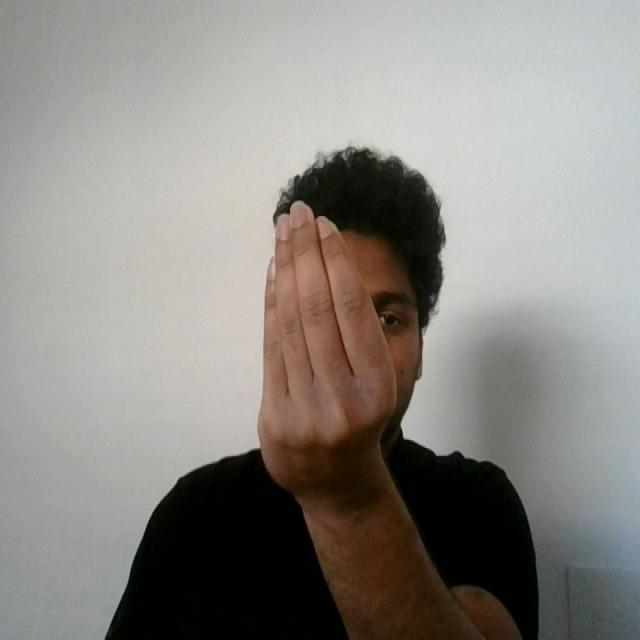Please: (250, 194, 408, 508)
